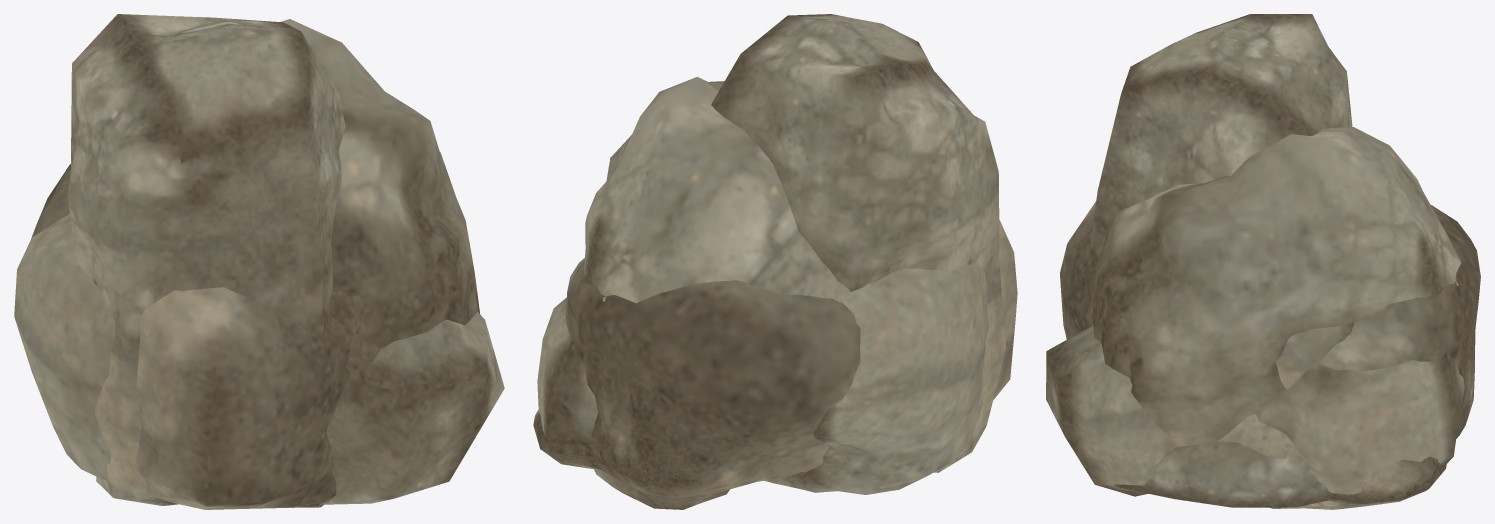
File: Rocks.fbx
3 renders of one model, left to right at view 1: azimuth 30°, elevation 25°; view 2: azimuth 150°, elevation 25°; view 3: azimuth 270°, elevation 25°, orthographic. The views are drawn at different scales.
Visible parts, largest first — view 1: polySurface8, polySurface11, polySurface9, polySurface10; view 2: polySurface8, polySurface11, polySurface9; view 3: polySurface8, polySurface11, polySurface9, polySurface10.
Boxes of the visible parts, <box> form: polySurface8: <box>14,19,479,509</box>; polySurface11: <box>67,14,345,505</box>; polySurface9: <box>31,164,504,504</box>; polySurface10: <box>329,291,380,375</box>; polySurface8: <box>537,77,1017,494</box>; polySurface11: <box>594,14,1006,509</box>; polySurface9: <box>533,258,860,498</box>; polySurface8: <box>1060,127,1464,494</box>; polySurface11: <box>1088,14,1352,507</box>; polySurface9: <box>1046,205,1480,509</box>; polySurface10: <box>1086,284,1354,389</box>.
Size of the model in its own units: 82.26 by 91.54 by 88.38.
